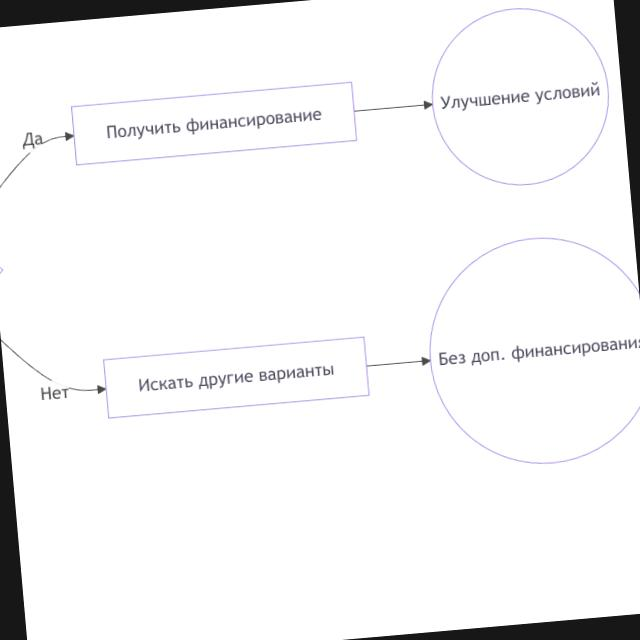arrow: (358, 91, 432, 121), (364, 348, 434, 378)
circle: (430, 238, 639, 463), (432, 8, 608, 185)
rectangle: (71, 82, 356, 164), (104, 337, 369, 418)
text_region: (35, 375, 78, 415), (19, 122, 46, 158)
